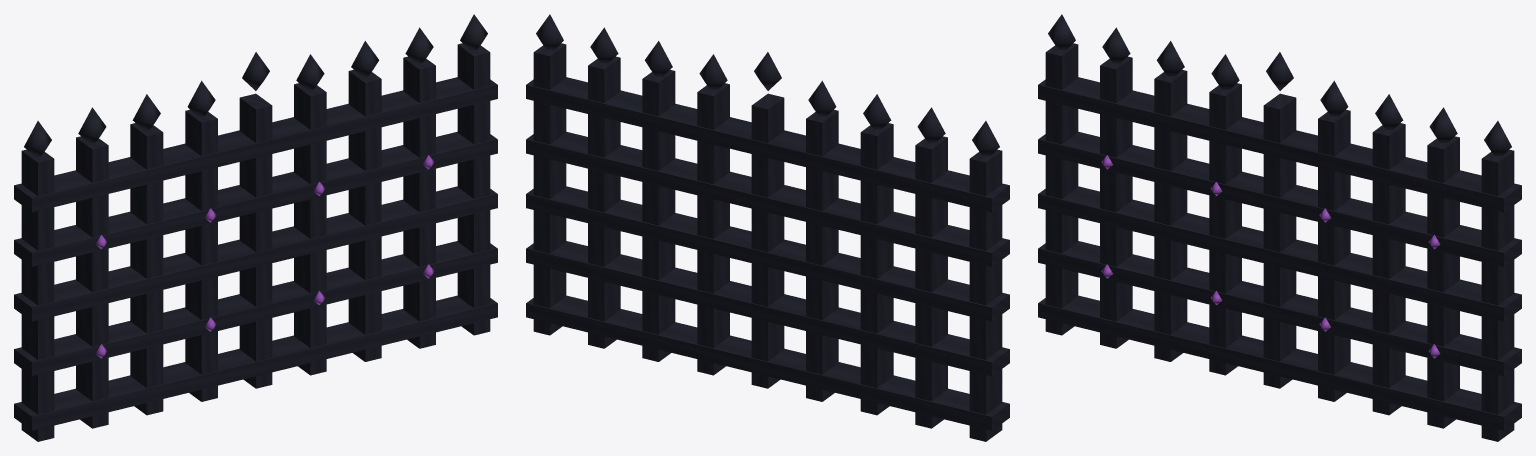
The model's file is high_crown_gate.obj.
The picture shows the model from 3 angles, left to right: view 1: azimuth 30°, elevation 25°; view 2: azimuth 150°, elevation 25°; view 3: azimuth 330°, elevation 25°; orthographic projection.
Parts seen in each view (by area): view 1: high_crown_gate; view 2: high_crown_gate; view 3: high_crown_gate.
Part boxes in pixels (x1,y1,x2,y2): high_crown_gate: (14,14,497,441); high_crown_gate: (526,14,1009,441); high_crown_gate: (1038,14,1521,441).
Size of the model in its own units: 12.5 by 8.44 by 1.
2 materials, 2 textured.
